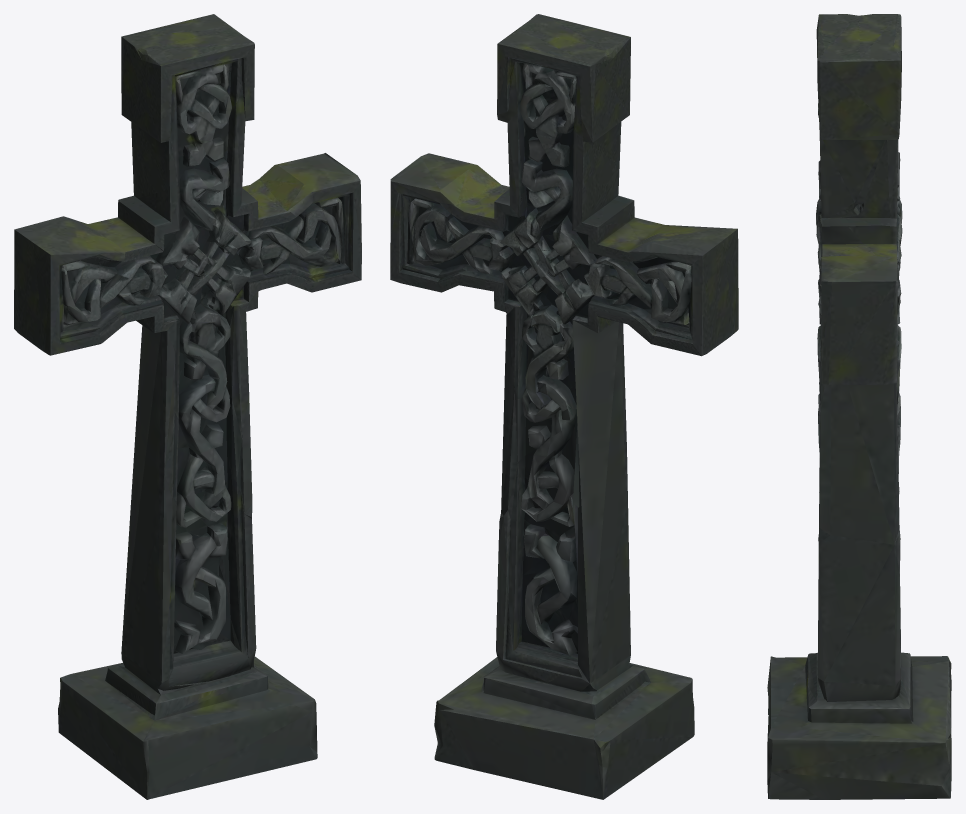
Rendered from mx_pr_stone_cross.glb.
The picture shows the model from 3 angles, left to right: view 1: azimuth 30°, elevation 25°; view 2: azimuth 150°, elevation 25°; view 3: azimuth 270°, elevation 25°; orthographic projection.
Size of the model in its own units: 0.8805 by 1.9 by 0.4409.
1 material, 1 textured.
